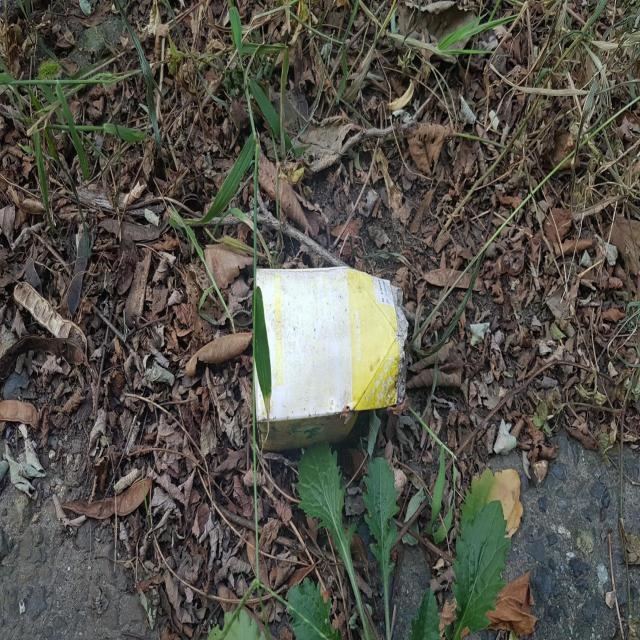paperpack: (255, 266, 407, 450)
